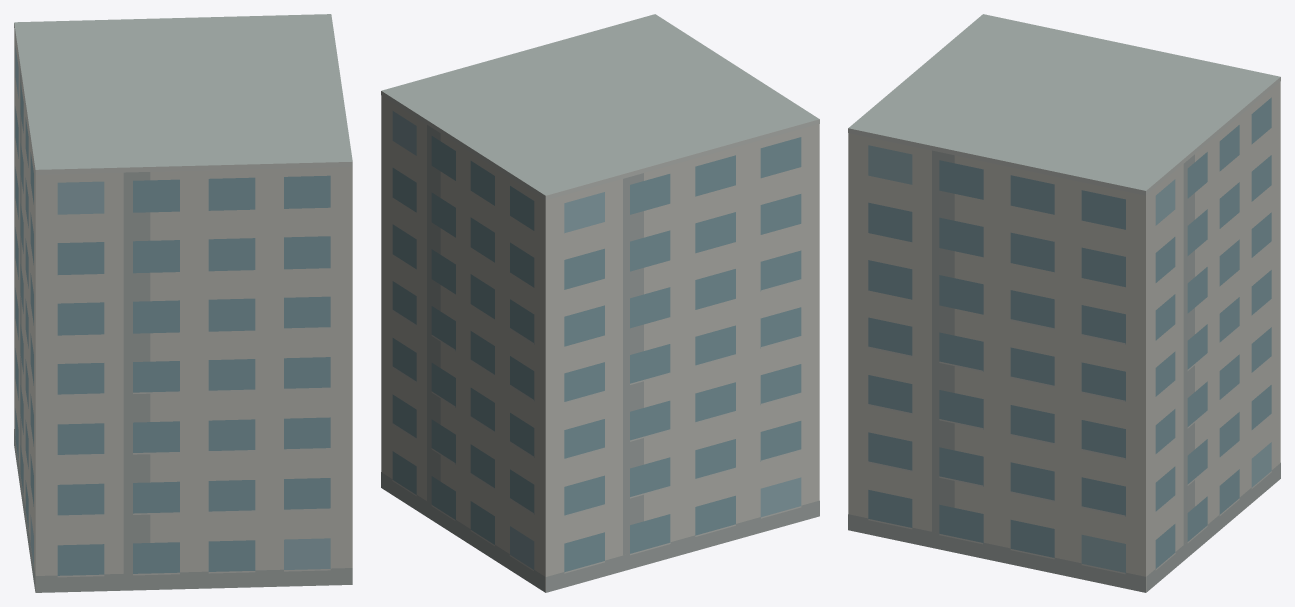
File: residential-316071c7-5d03-485e-924c-bc6a00559a07.glb
3 views of the same model, side by side, from view 1: azimuth 30°, elevation 25°; view 2: azimuth 150°, elevation 25°; view 3: azimuth 270°, elevation 25° (orthographic). The views are drawn at different scales.
Visible parts, largest first — view 1: residential-316071c7-5d03-485e-924c-bc6a00559a07.tmp; view 2: residential-316071c7-5d03-485e-924c-bc6a00559a07.tmp; view 3: residential-316071c7-5d03-485e-924c-bc6a00559a07.tmp.
Part boxes in pixels (bbox=[...]): residential-316071c7-5d03-485e-924c-bc6a00559a07.tmp: bbox=[14, 14, 352, 592]; residential-316071c7-5d03-485e-924c-bc6a00559a07.tmp: bbox=[381, 14, 819, 592]; residential-316071c7-5d03-485e-924c-bc6a00559a07.tmp: bbox=[848, 14, 1280, 592].
Size of the model in its own units: 19.83 by 21 by 20.49.
